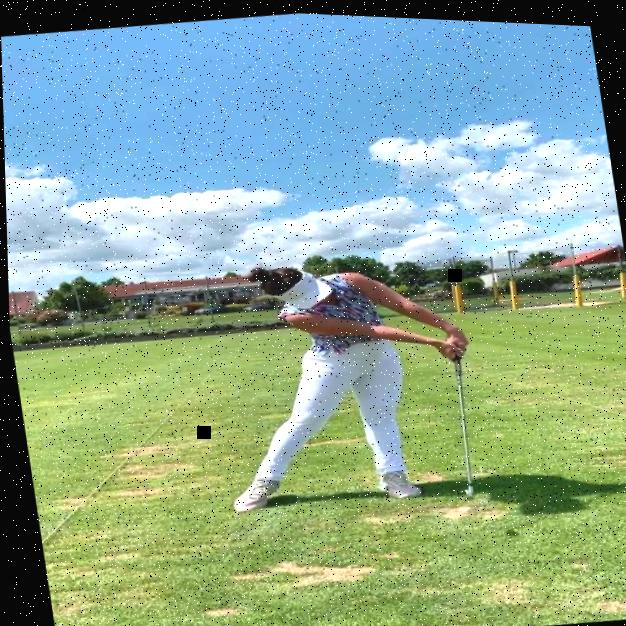ClubHead: (460, 484, 472, 494)
